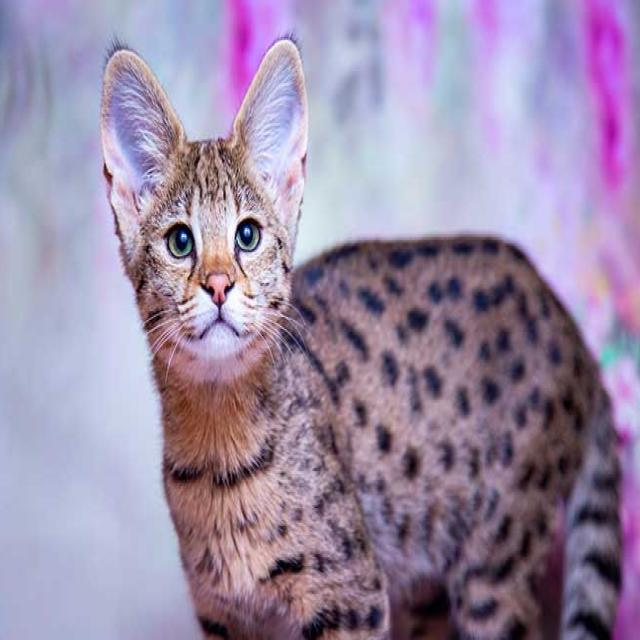Savannah: (97, 28, 626, 640)
